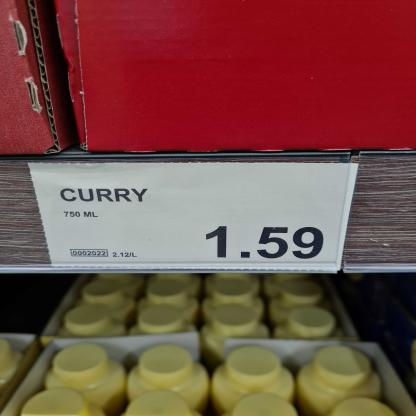prtg: (30, 164, 359, 269)
